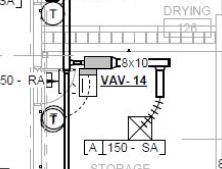VAV: (79, 50, 118, 78)
